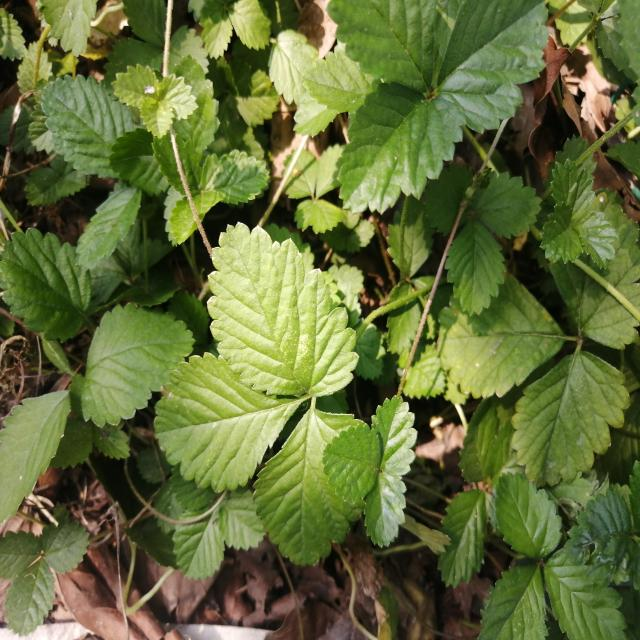Mock_strawberry: (171, 220, 389, 563)
